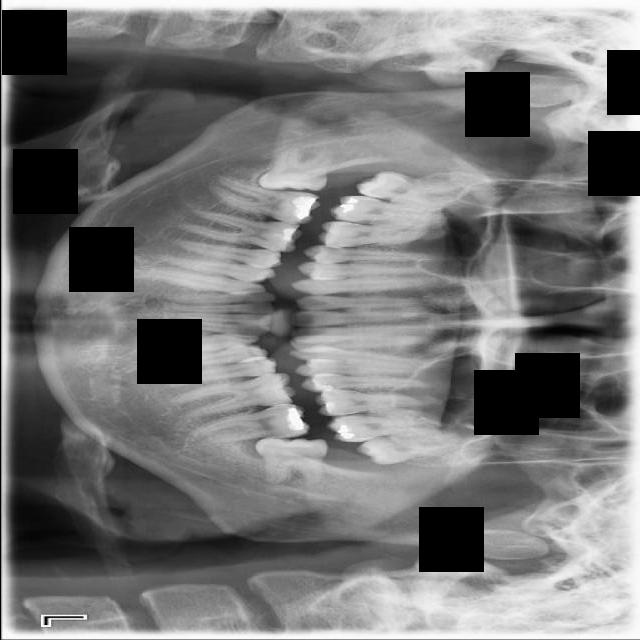3M ESPE Implant: (354, 167, 471, 211)
52: (255, 401, 310, 441), (264, 218, 304, 256), (330, 195, 382, 224), (314, 387, 360, 418), (326, 415, 370, 443), (301, 373, 346, 393)
73: (32, 618, 37, 626)
BioHorizons Implant: (325, 414, 450, 446)
BioLife Implant: (354, 423, 474, 469)
Biomet 3i Implant: (251, 434, 329, 488)
Blue Sky Bio Implant: (186, 401, 311, 450)
Caries: (330, 195, 452, 224)
Implant: (206, 173, 322, 229)
Keystone Dental Implant: (257, 145, 335, 193)
